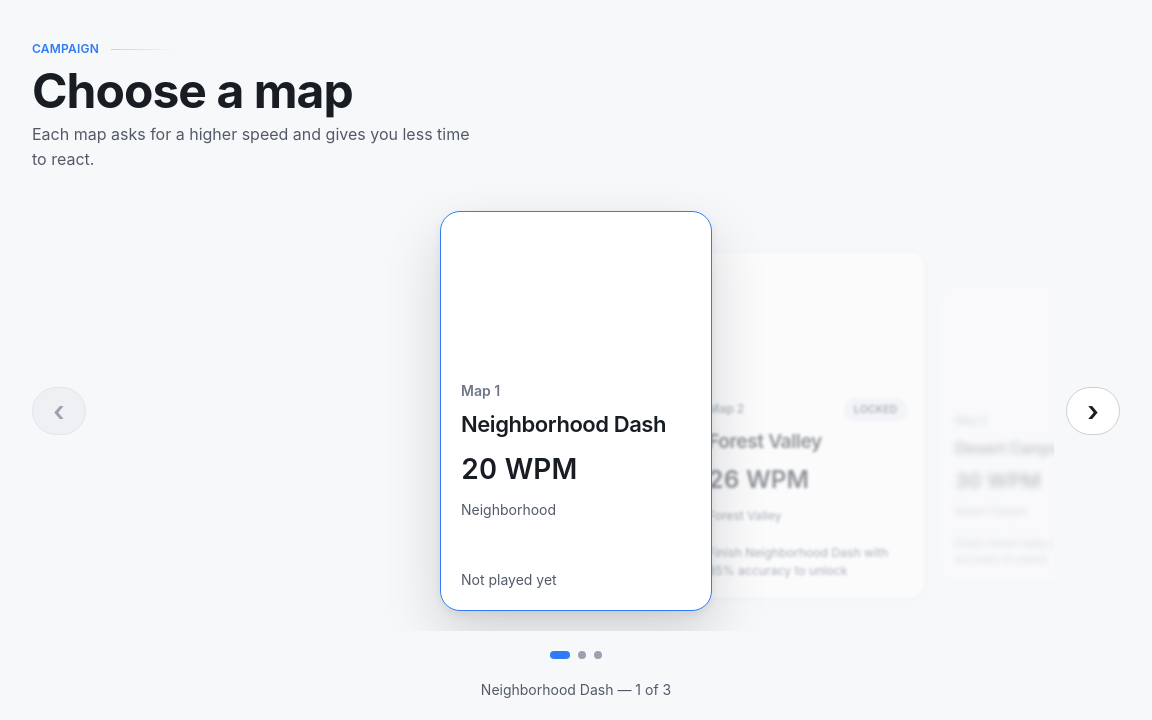
Test case: the carousel › disables the arrow that would go nowhere
The image size is (1152, 720).
Expected: the button named "Previous map" is disabled, [32,387,86,435]
Click the button named "Next map" at (1093, 411), box [1066,387,1120,435]
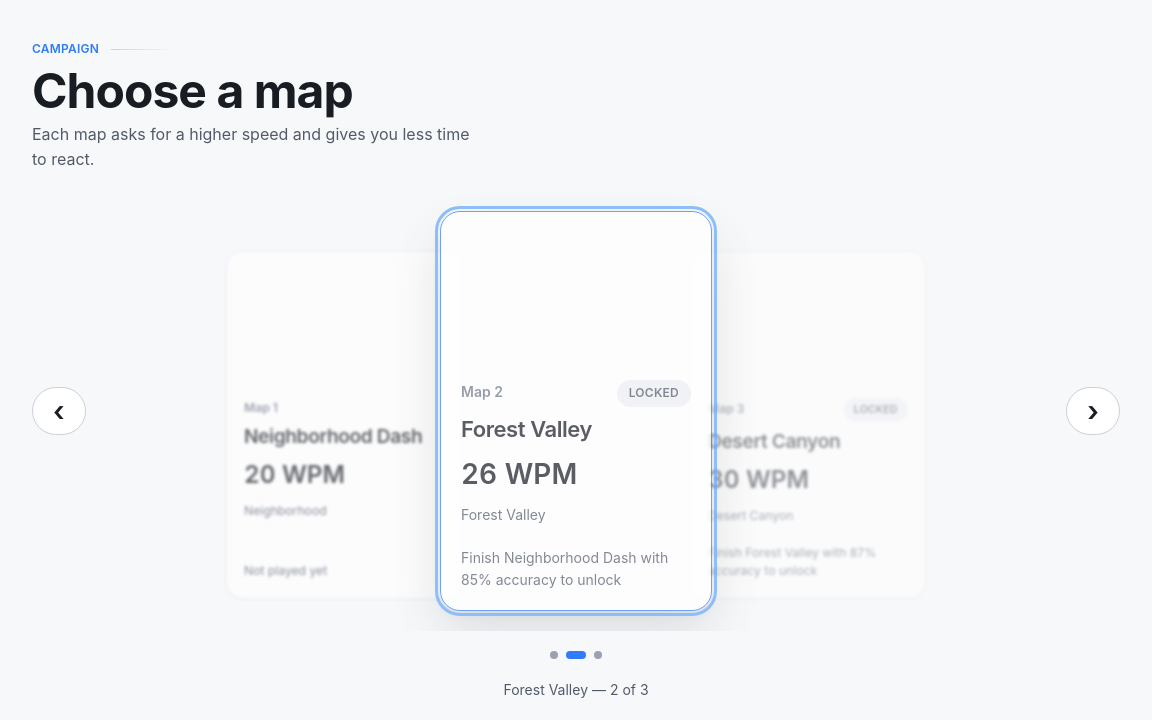
Click the button named "Next map" at (1093, 411), box [1066,387,1120,435]
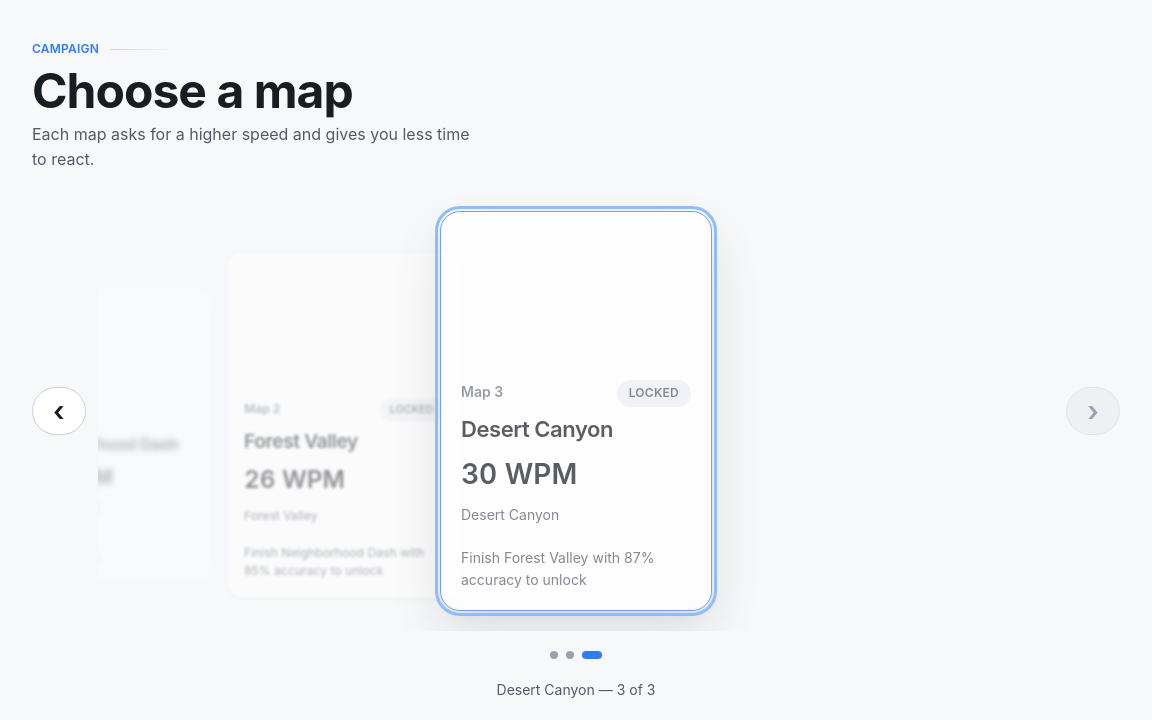
Result: the button named "Previous map" is enabled at [32,387,86,435]
Result: the button named "Next map" is disabled at [1066,387,1120,435]
